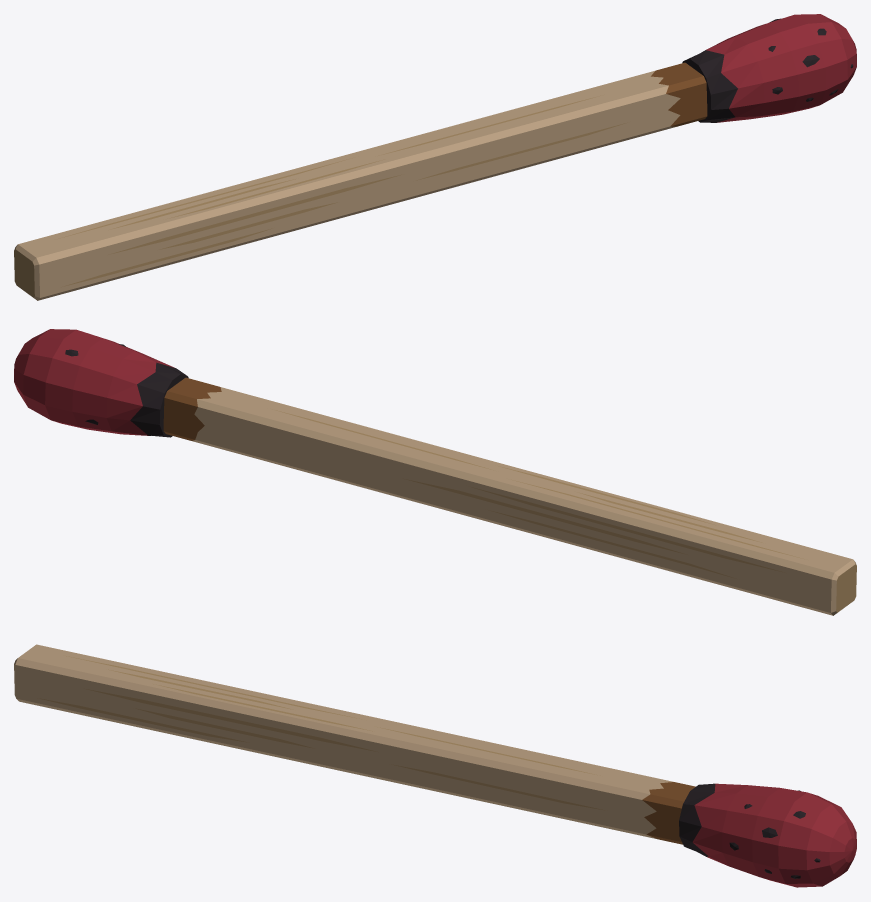
The model's file is matchstick-b3147f.glb.
3 views of the same model, one above another, from view 1: azimuth 30°, elevation 25°; view 2: azimuth 150°, elevation 25°; view 3: azimuth 330°, elevation 25° (orthographic).
Visible parts, largest first — view 1: matchstick-body; view 2: matchstick-body; view 3: matchstick-body.
Part boxes in pixels (left/top/right/bottom): matchstick-body: left=14, top=14, right=856, bottom=300; matchstick-body: left=14, top=329, right=856, bottom=615; matchstick-body: left=14, top=644, right=856, bottom=887.
Bounding box in the file's own units: 5 × 0.4981 × 0.4926.
